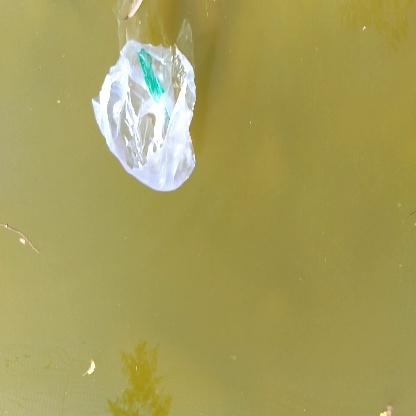plastic-bag: (90, 38, 203, 192)
